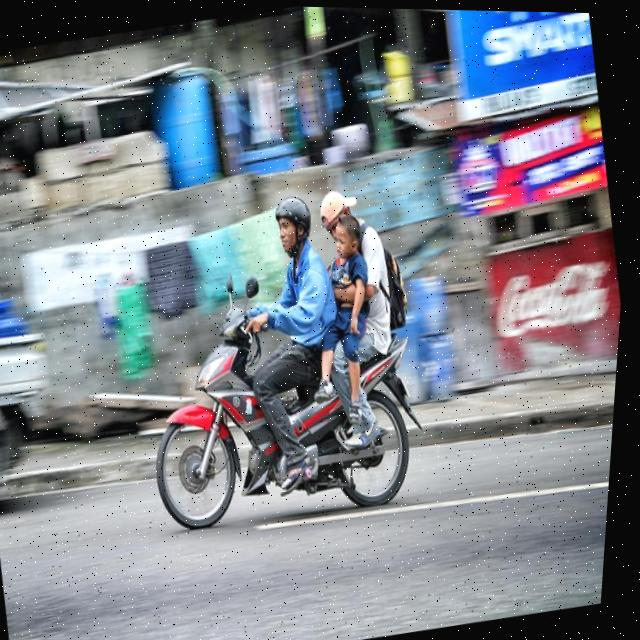motorcycle: (113, 246, 460, 554)
